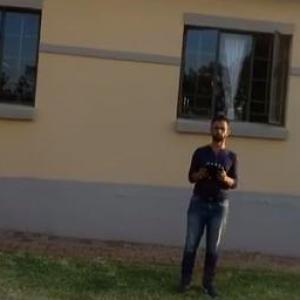follow: (171, 109, 238, 299)
